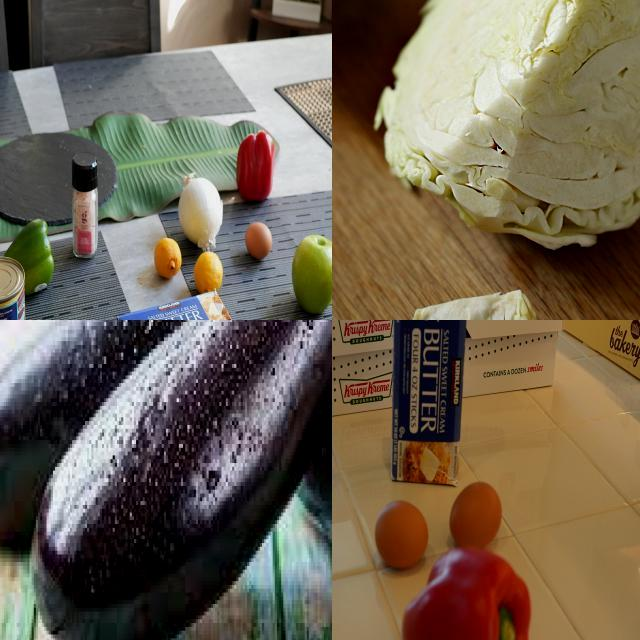bell_pepper: (388, 567, 527, 640), (1, 219, 56, 296), (237, 133, 277, 200)
cabbage: (378, 1, 640, 249)
egg: (374, 497, 432, 575), (453, 481, 507, 549), (244, 220, 277, 263)
eggplant: (32, 321, 333, 640), (1, 321, 295, 547)
onion: (175, 173, 228, 255)
